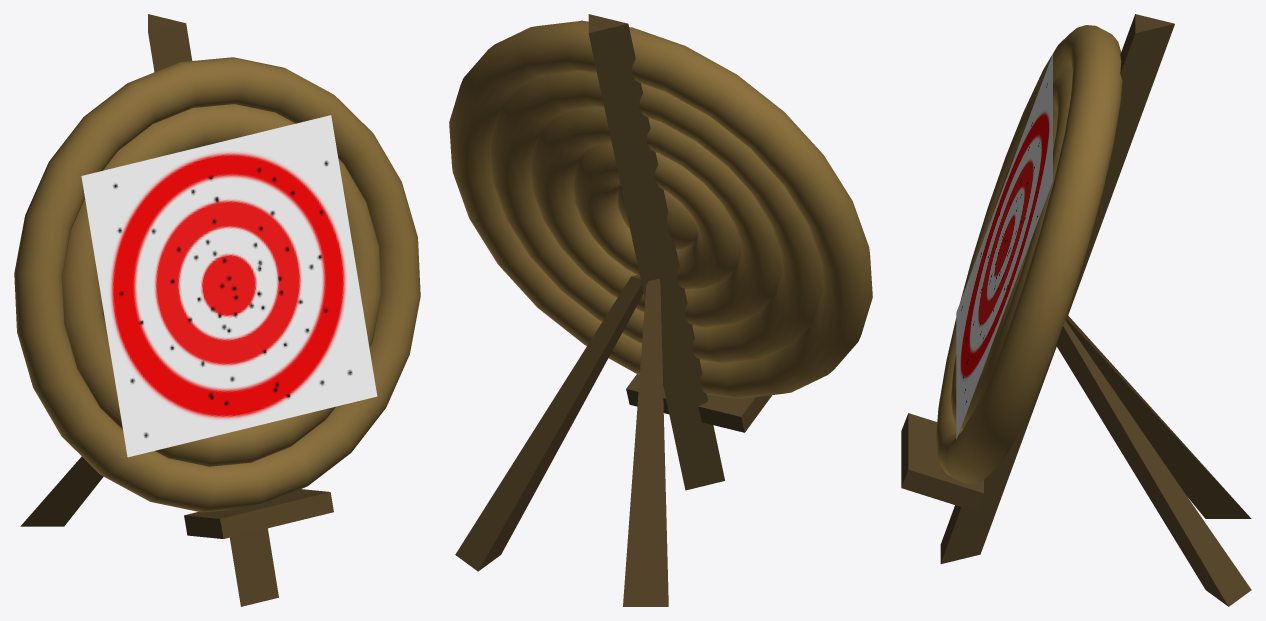
Rendered from Diana.fbx.
3 renders of one model, left to right at view 1: azimuth 30°, elevation 25°; view 2: azimuth 150°, elevation 25°; view 3: azimuth 270°, elevation 25°, orthographic. The views are drawn at different scales.
Parts seen in each view (by area): view 1: Plane, Torus.003, Cube.012; view 2: Torus.003, Cube.012; view 3: Torus.003, Cube.012, Plane.
Boxes of the visible parts, x1,y1,x2,y2 form: Plane: (81,115,377,457); Torus.003: (14,57,420,512); Cube.012: (20,14,333,606); Torus.003: (449,20,872,398); Cube.012: (455,14,771,606); Torus.003: (936,25,1122,483); Cube.012: (901,14,1251,606); Plane: (956,54,1052,439).
Bounding box in the file's own units: 204 × 249 × 149.
